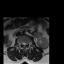CCS_normal: (23, 42, 25, 47)
LFS_normal: (27, 41, 28, 46)
LLS_normal: (25, 42, 26, 46)
RFS_normal: (21, 42, 22, 46)
RLS_stenosis: (22, 42, 23, 46)
